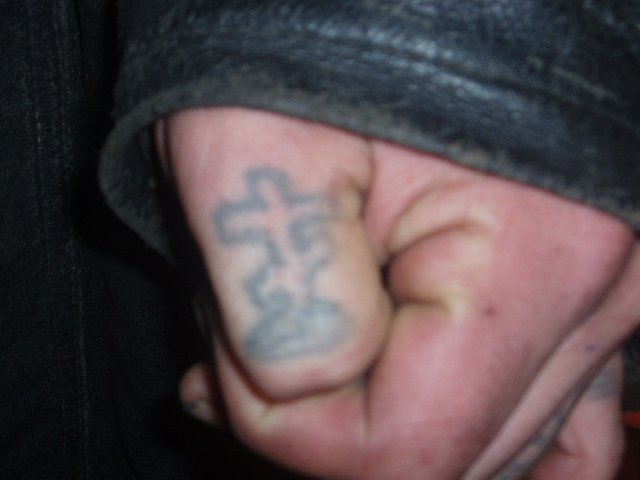tatu9_krest: (210, 158, 344, 346)
